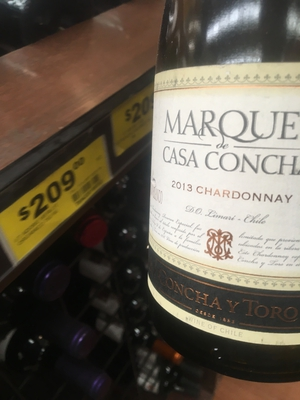marques de casa concha chardonnay: (120, 14, 300, 380)
